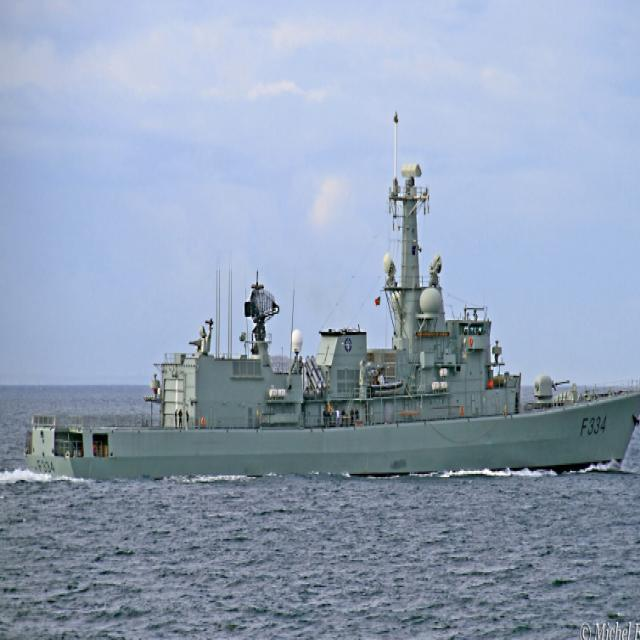Fragata: (26, 110, 640, 478)
